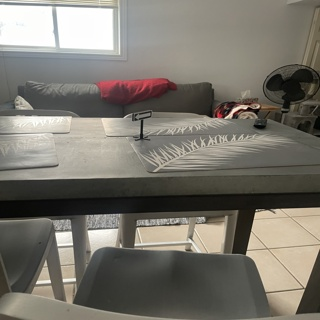sign_oneway_left: (131, 110, 149, 121)
